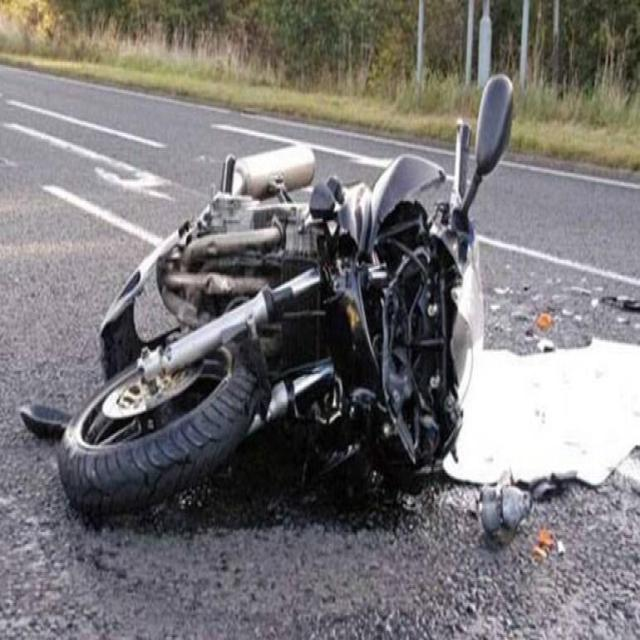accident: (59, 76, 512, 515)
